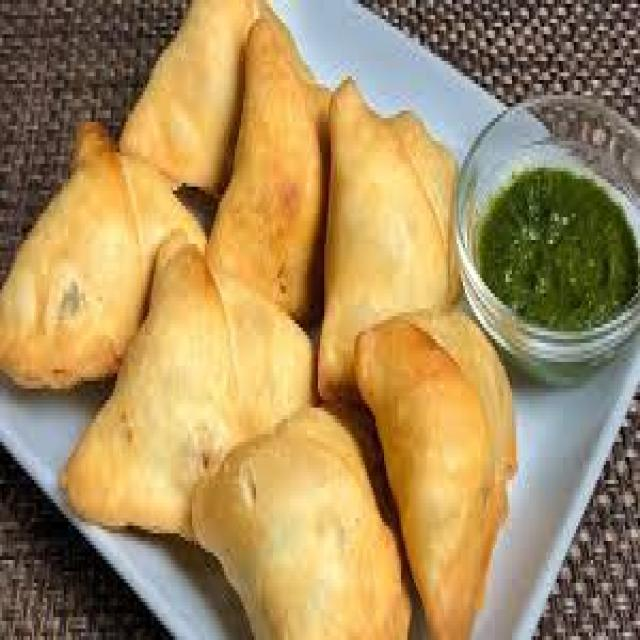SAMOSA: (59, 228, 317, 542), (352, 303, 523, 636), (190, 401, 414, 636), (637, 5, 638, 15)
